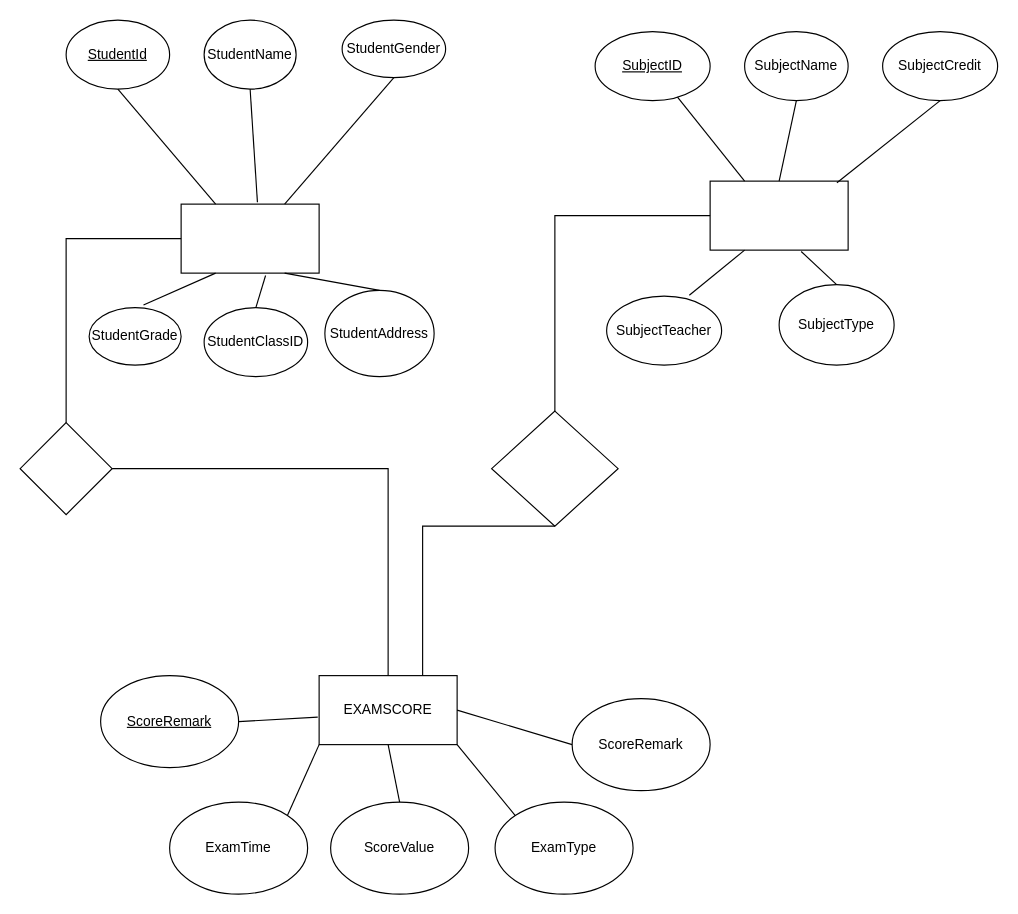
Image size: 1018x914. Some labels were removed from this diagram. The shapes that lost their labels are listed below. From the top down, each one's centre as x and y in pixels, then its label:
At [778,215]: "SUBJECT".
At [249,238]: "STUDENT".
At [65,468]: "HasScore".
At [554,468]: "BelongSubject".
